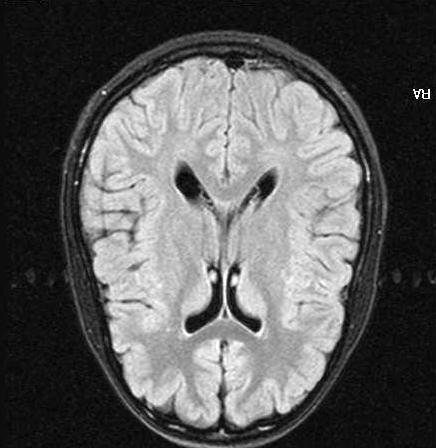Normal_Brain: (18, 1, 436, 448)
